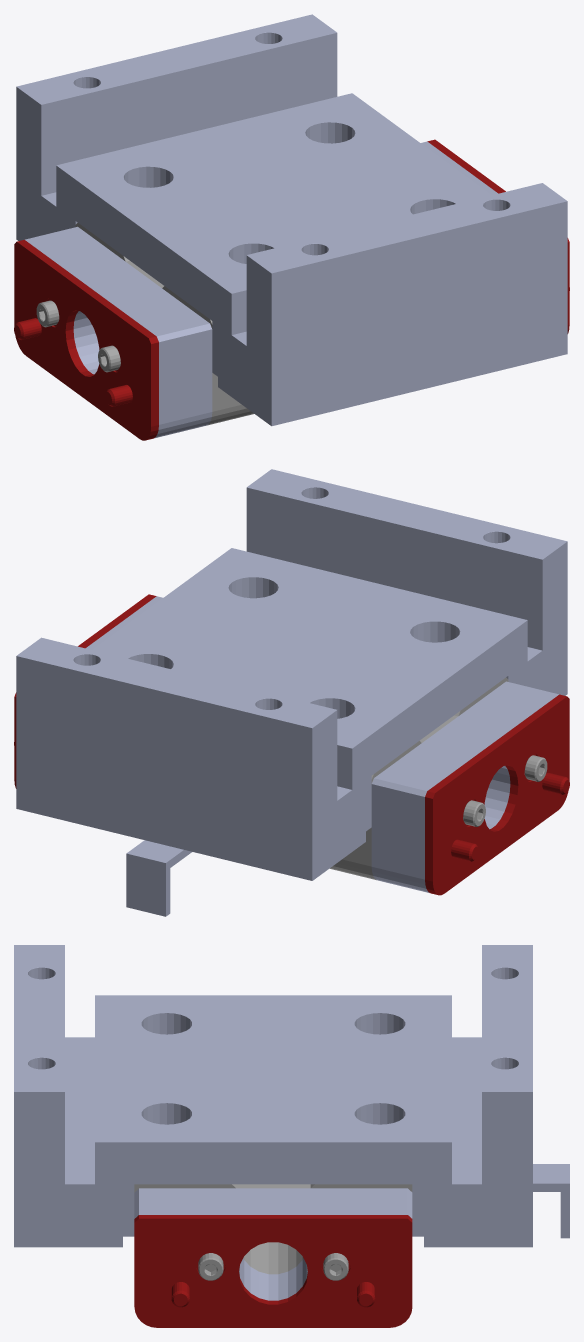
File: kk86_car.glb
The picture shows the model from 3 angles, top to bottom: view 1: azimuth 30°, elevation 25°; view 2: azimuth 150°, elevation 25°; view 3: azimuth 270°, elevation 25°; orthographic projection.
Visible parts, largest first — view 1: world; view 2: world; view 3: world.
Part boxes in pixels (x1=…): world: x1=14, y1=14, x2=569, y2=440; world: x1=14, y1=469, x2=569, y2=916; world: x1=14, y1=945, x2=569, y2=1327.
Bounding box in the file's own units: 116 × 50 × 120.
